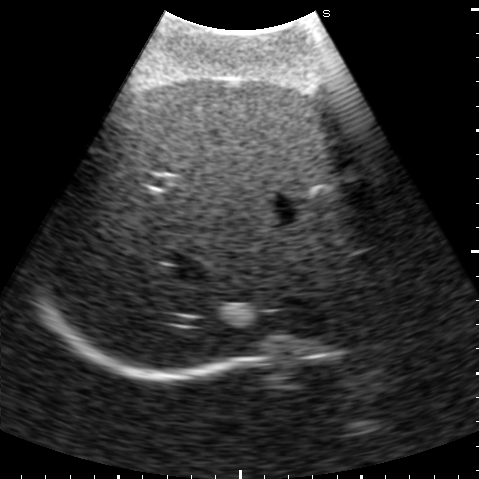S5: (118, 80, 346, 193)
S7: (46, 148, 169, 305)
S8: (96, 180, 385, 367)
Tumor: (216, 302, 255, 328)
